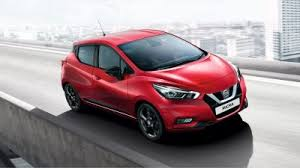Nissan: (63, 35, 247, 127)
